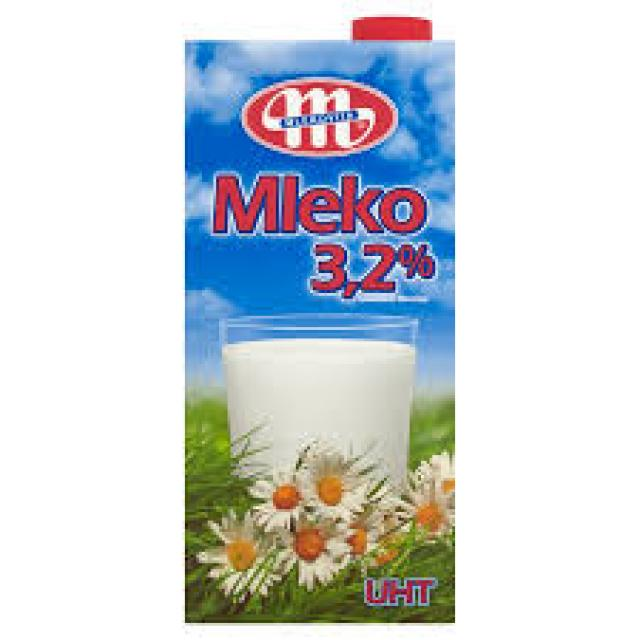non_white_jug: (152, 8, 476, 640)
